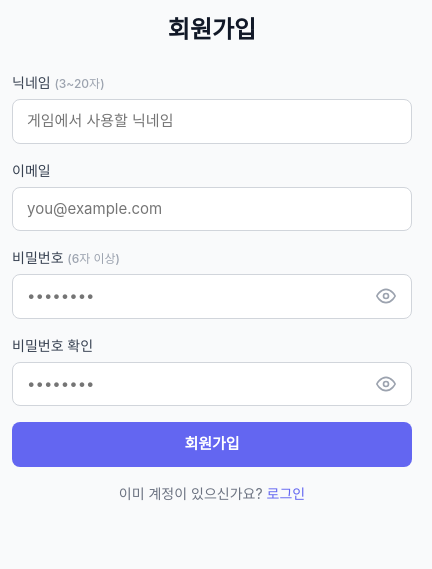
Scenario: SignupForm client validation › 닉네임이 3자 미만이면 에러
This screenshot has width=432, height=569.
Type "ab" into the field labelled "닉네임 (3~20자)".
click(212, 121); type("ab")  # box [12,99,412,144]
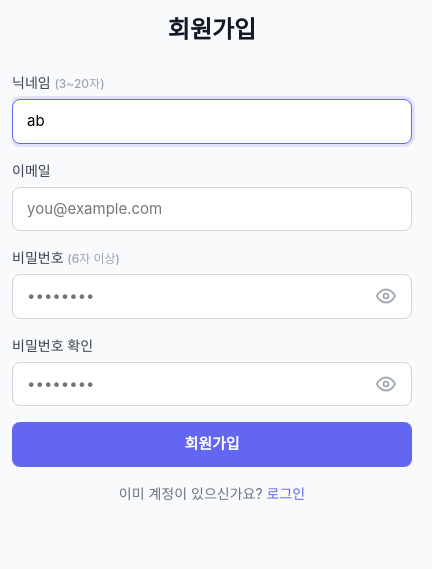
Type "test@example.com" into the field labelled "이메일".
click(212, 209); type("test@example.com")  # box [12,186,412,231]
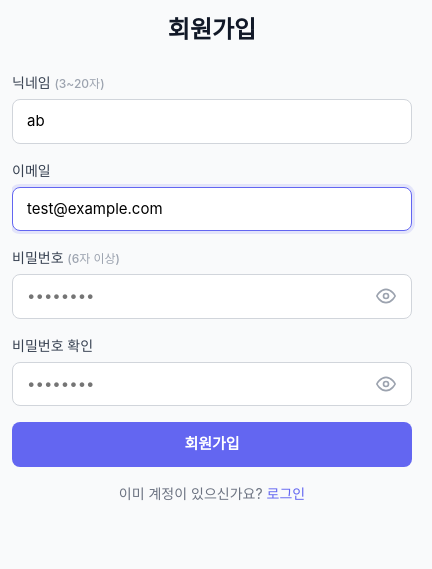
Type "pass123" into the password field labelled "비밀번호 (6자 이상)".
click(212, 296); type("pass123")  # box [12,274,412,318]
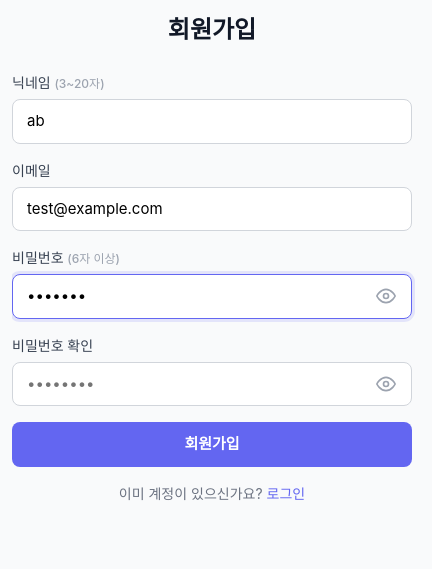
Type "pass123" into the password field labelled "비밀번호 확인".
click(212, 384); type("pass123")  # box [12,362,412,406]
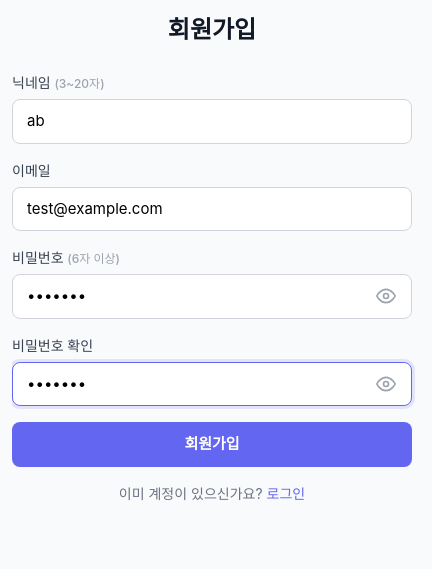
Click the button "회원가입".
click(212, 444)  # box [12,422,412,466]
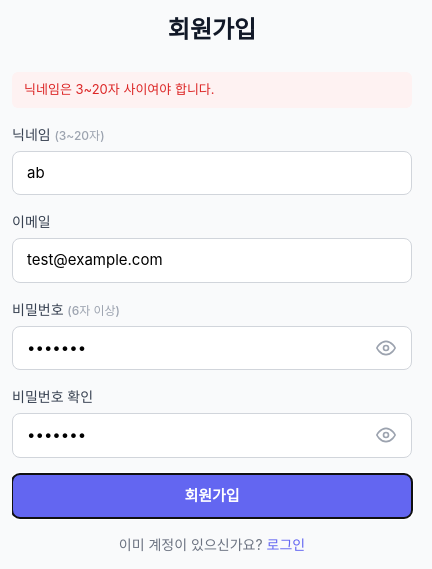
Expected: the text "닉네임은 3~20자 사이여야 합니다." is shown, [12,72,412,108]
